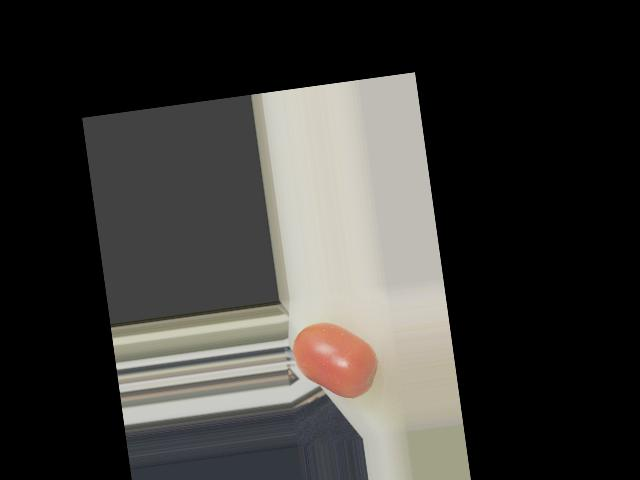tomato: (289, 315, 381, 405)
